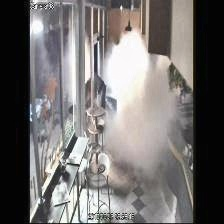smoke: (98, 24, 182, 192)
